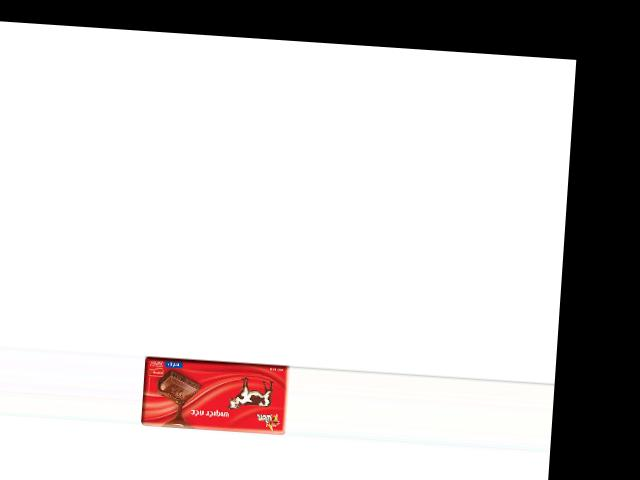chocolate: (140, 356, 291, 435)
